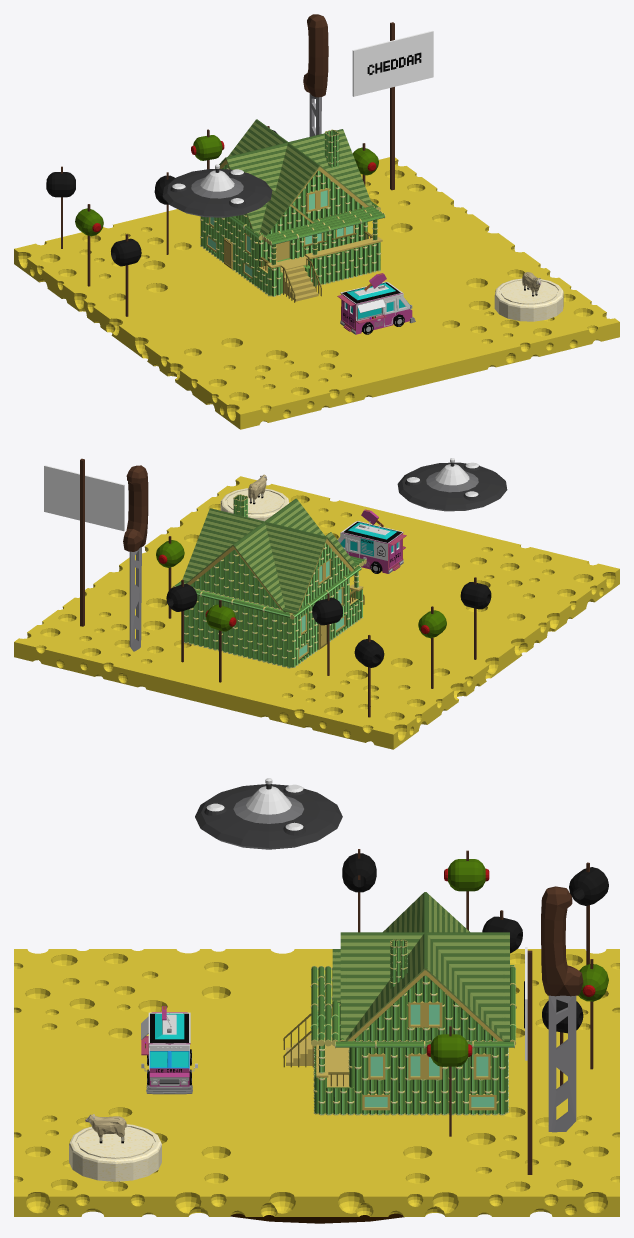
3 renders of one model, top to bottom at view 1: azimuth 30°, elevation 25°; view 2: azimuth 150°, elevation 25°; view 3: azimuth 270°, elevation 25°, orthographic. The views are drawn at different scales.
Parts seen in each view (by area): view 1: Cube.022, Cube.1327, Cube.023, OBJRANDOM_UFO, VEHICLES_ICE_CREAM_TRUCK, Cylinder.016, Cube.024, Sphere.017, Sphere.018, Sphere.016, Sphere.022, Sphere.019; view 2: Cube.022, Cube.1327, Cube.023, OBJRANDOM_UFO, Cube.024, VEHICLES_ICE_CREAM_TRUCK, Cylinder.016, Sphere.017, Sphere.020, Sphere.021, Sphere.022, Sphere.016 (+2 smaller); view 3: Cube.022, Cube.1327, OBJRANDOM_UFO, Cube.024, Cylinder.016, VEHICLES_ICE_CREAM_TRUCK, Cube.023, Sphere.019, Sphere.016, Sphere.018, Sphere.017, Sphere.022 (+4 smaller).
Boxes of the visible parts, <box> form: Cube.022: <box>14,157,619,429</box>; Cube.1327: <box>200,119,385,302</box>; Cube.023: <box>352,22,433,190</box>; OBJRANDOM_UFO: <box>162,164,272,217</box>; VEHICLES_ICE_CREAM_TRUCK: <box>337,273,415,334</box>; Cylinder.016: <box>494,278,563,321</box>; Cube.024: <box>303,14,328,136</box>; Sphere.017: <box>111,234,141,316</box>; Sphere.018: <box>75,204,103,286</box>; Sphere.016: <box>46,166,75,248</box>; Sphere.022: <box>191,129,224,169</box>; Sphere.019: <box>352,143,378,185</box>; Cube.022: <box>14,476,619,749</box>; Cube.1327: <box>172,494,366,668</box>; Cube.023: <box>44,458,124,626</box>; OBJRANDOM_UFO: <box>397,458,507,511</box>; Cube.024: <box>123,465,148,651</box>; VEHICLES_ICE_CREAM_TRUCK: <box>338,509,406,573</box>; Cylinder.016: <box>220,488,289,521</box>; Sphere.017: <box>460,577,491,659</box>; Sphere.020: <box>312,593,342,675</box>; Sphere.021: <box>166,579,197,662</box>; Sphere.022: <box>205,600,236,682</box>; Sphere.016: <box>354,635,384,717</box>; Cube.022: <box>14,949,619,1216</box>; Cube.1327: <box>283,892,516,1115</box>; OBJRANDOM_UFO: <box>195,778,342,849</box>; Cube.024: <box>541,886,583,1132</box>; Cylinder.016: <box>69,1124,161,1181</box>; VEHICLES_ICE_CREAM_TRUCK: <box>141,1006,197,1094</box>; Cube.023: <box>524,947,532,1174</box>; Sphere.019: <box>426,1026,472,1136</box>; Sphere.016: <box>569,862,608,964</box>; Sphere.018: <box>444,850,489,930</box>; Sphere.017: <box>342,849,376,932</box>; Sphere.022: <box>578,959,608,1069</box>.
Bounding box in the file's own units: 3917 × 2073 × 4000.
Materials: 43 (4 with a texture image).
